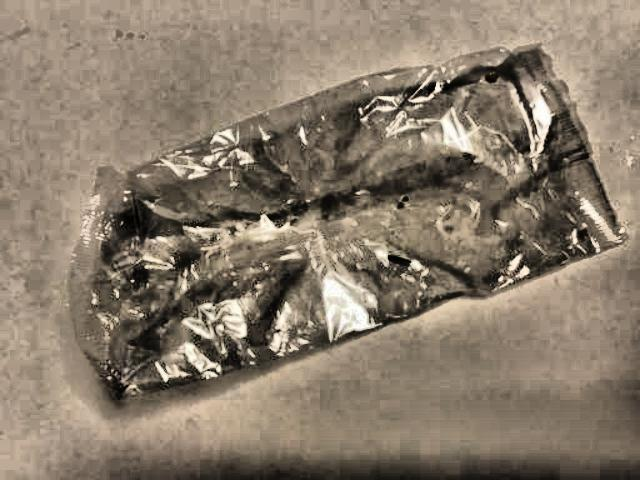Plastic: (0, 13, 640, 480)
